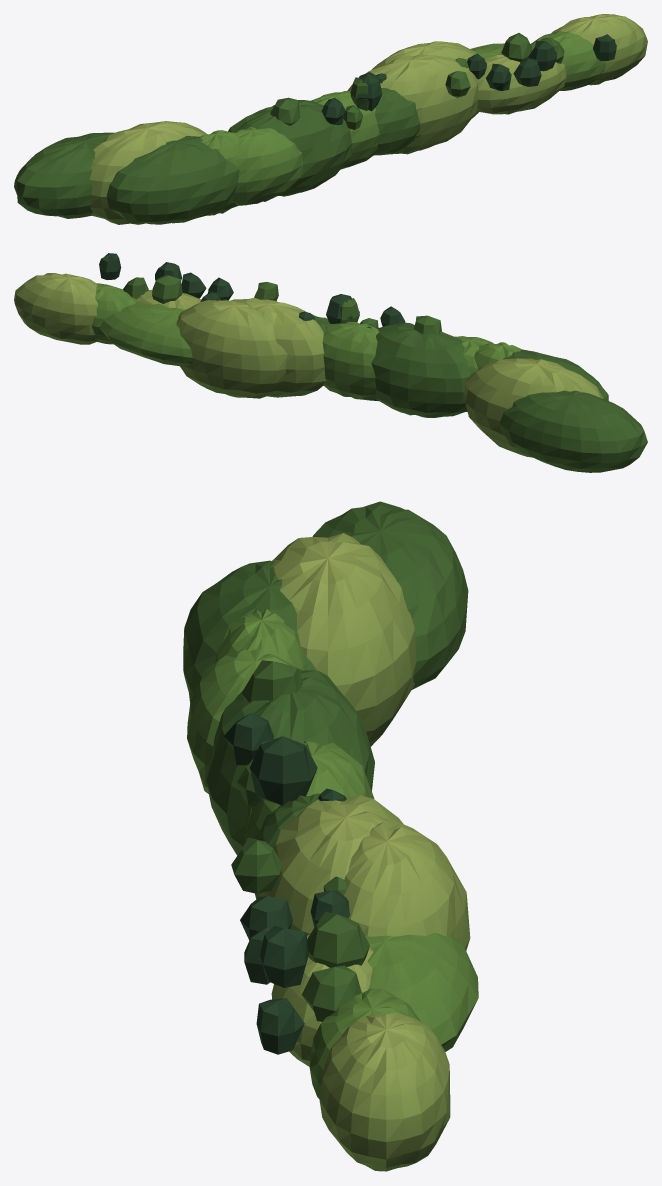
Rendered from hills.glb.
3 renders of one model, top to bottom at view 1: azimuth 30°, elevation 25°; view 2: azimuth 150°, elevation 25°; view 3: azimuth 270°, elevation 25°, orthographic. The views are drawn at different scales.
Visible parts, largest first — view 1: hills; view 2: hills; view 3: hills.
Part boxes in pixels (x1=…): hills: x1=14, y1=14, x2=647, y2=224; hills: x1=14, y1=253, x2=647, y2=472; hills: x1=183, y1=501, x2=478, y2=1171.
Size of the model in its own units: 111 by 17.12 by 22.8.
